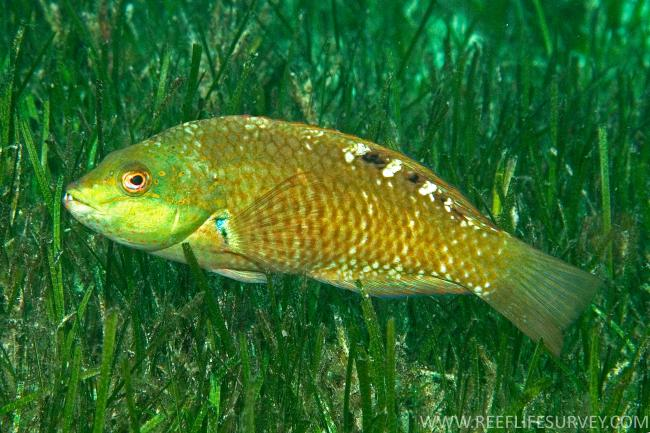fish: (62, 113, 598, 356)
